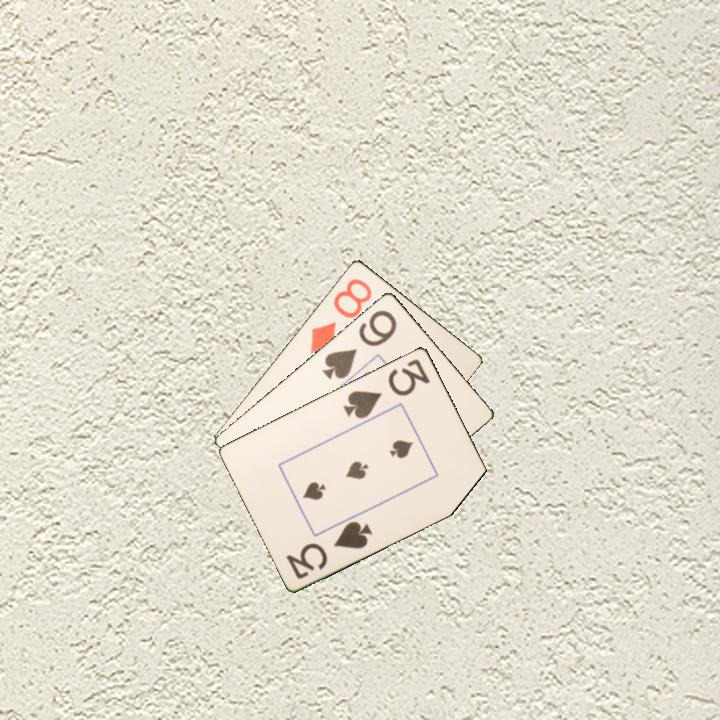3s: (340, 355, 433, 422), (283, 517, 375, 582)
8d: (306, 274, 375, 357)
9s: (318, 306, 400, 382)
